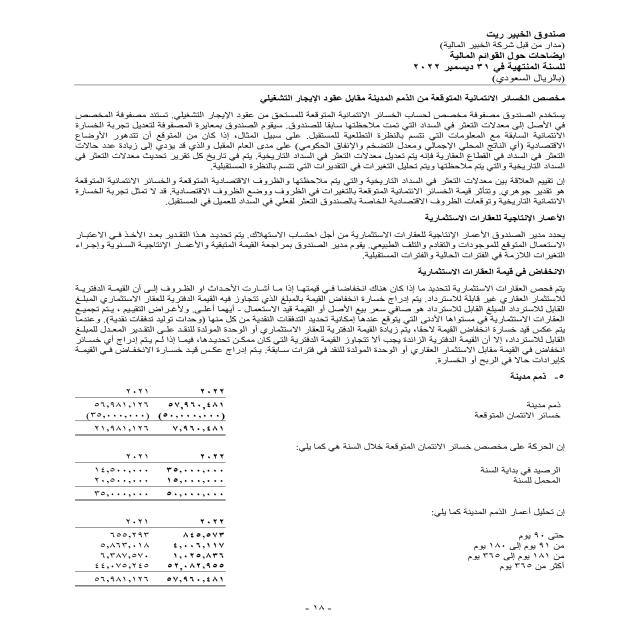notes: (436, 49, 568, 63)
table: (48, 381, 248, 599)
